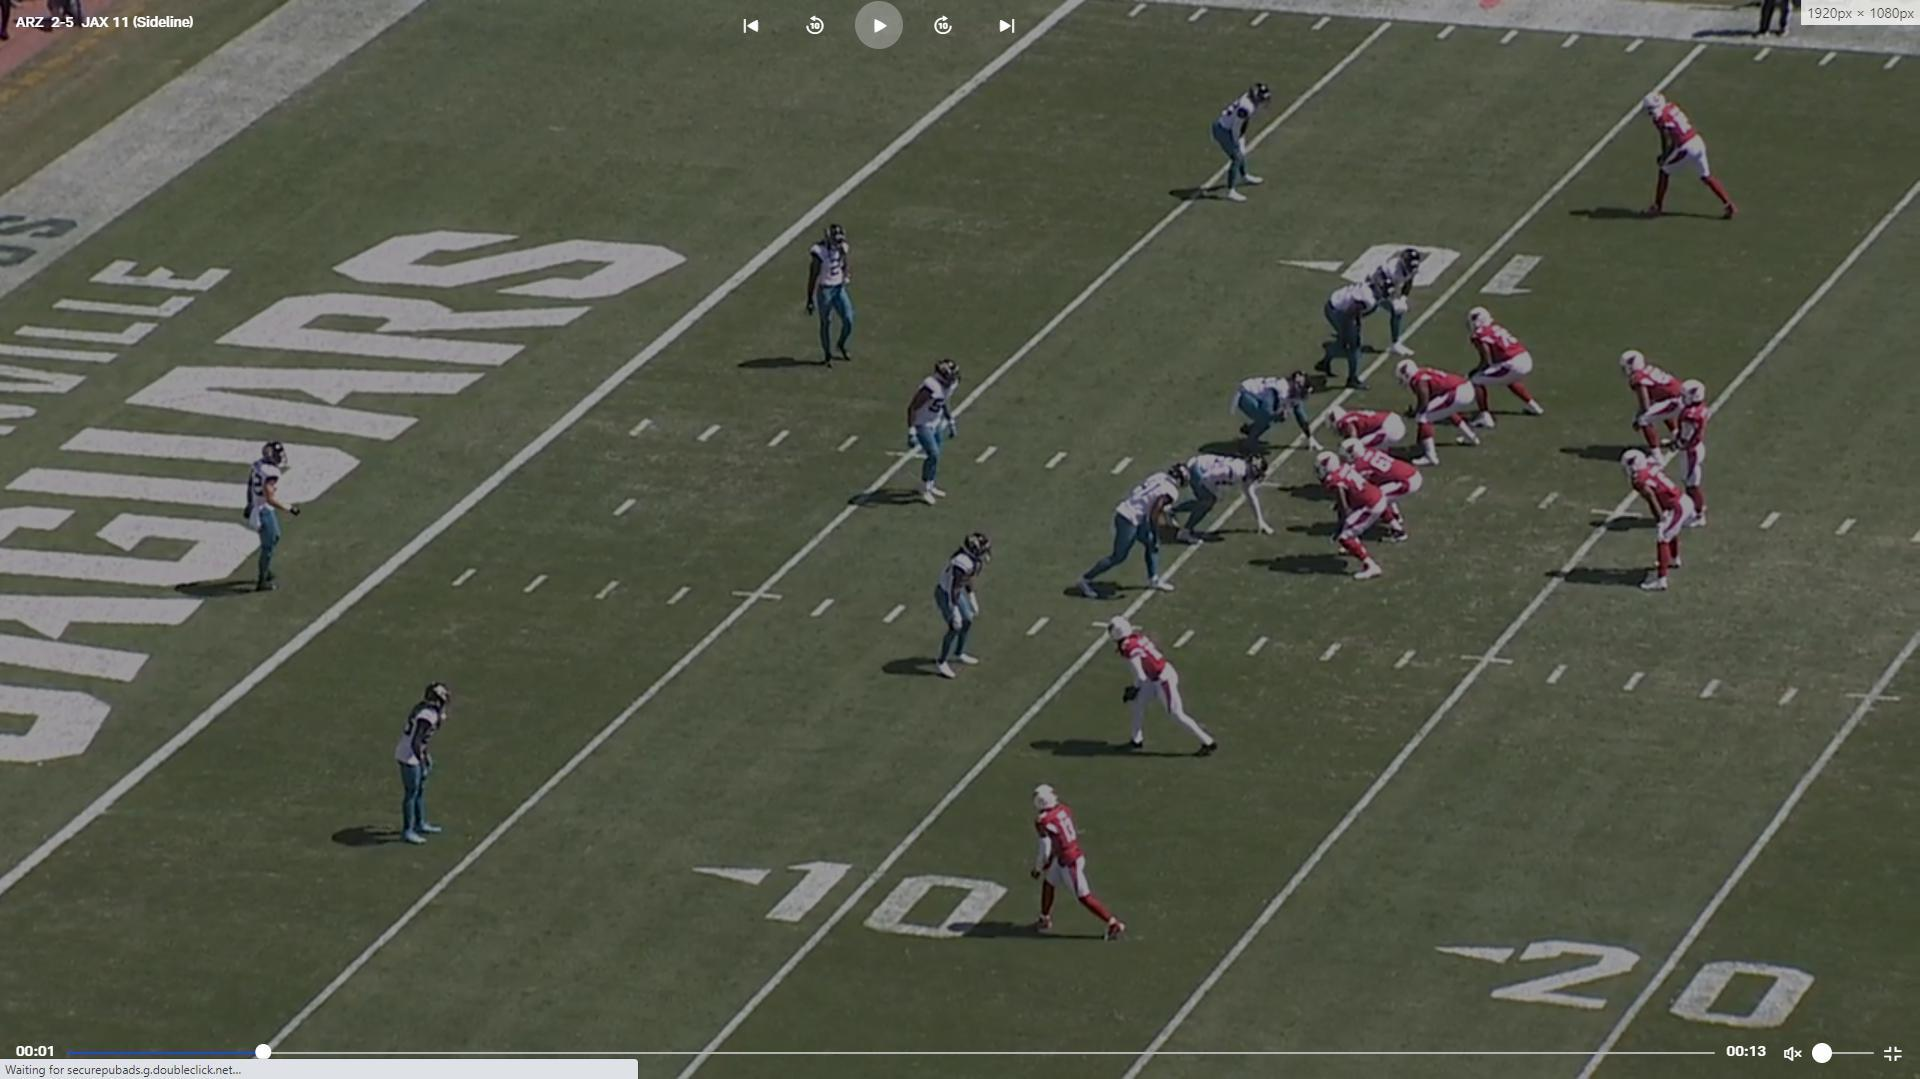defense: (1067, 466, 1184, 603), (396, 678, 456, 848), (1162, 451, 1269, 546), (898, 354, 964, 507), (1317, 278, 1404, 393), (935, 528, 998, 683), (1208, 78, 1279, 208), (241, 441, 298, 603), (804, 218, 862, 376), (1229, 369, 1323, 466), (1360, 247, 1423, 356)
oline: (1464, 305, 1545, 430), (1321, 462, 1396, 587), (1396, 361, 1484, 464), (1337, 446, 1419, 541), (1333, 404, 1408, 460)
qb: (1662, 373, 1717, 528)
ref: (1753, 0, 1807, 41)
skill: (1022, 782, 1133, 948), (1105, 616, 1216, 756), (1638, 91, 1743, 227), (1626, 451, 1697, 596), (1623, 343, 1693, 460)
